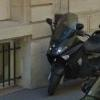Motorcycle: (38, 10, 100, 100)
